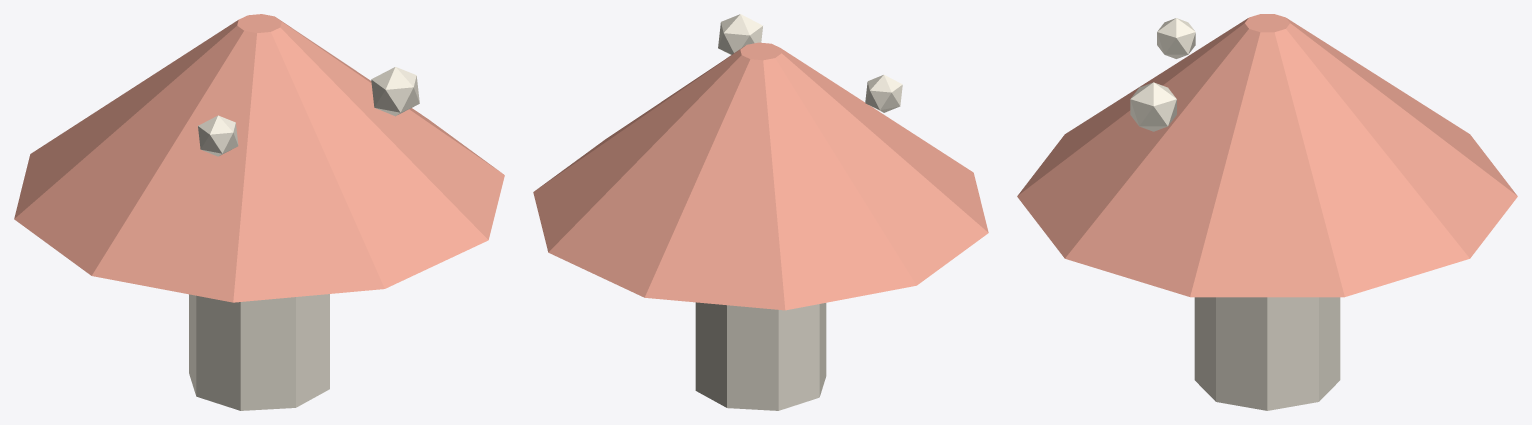
The model's file is mushroom.glb.
3 renders of one model, left to right at view 1: azimuth 30°, elevation 25°; view 2: azimuth 150°, elevation 25°; view 3: azimuth 270°, elevation 25°, orthographic. The views are drawn at different scales.
Visible parts, largest first — view 1: mushroom; view 2: mushroom; view 3: mushroom.
Part boxes in pixels (<box>): mushroom: <box>14,14,504,410</box>; mushroom: <box>533,14,988,410</box>; mushroom: <box>1017,14,1517,410</box>.
Size of the model in its own units: 1.05 by 0.865 by 1.1.
